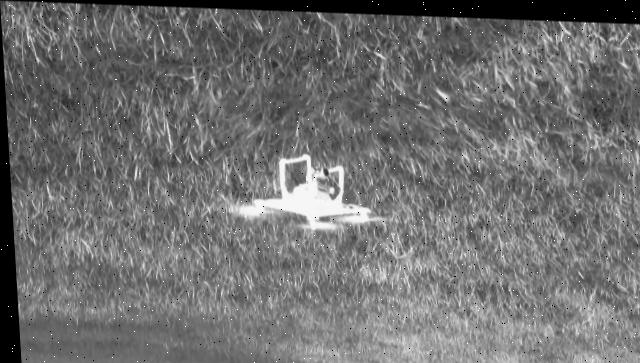drone: (229, 150, 382, 233)
